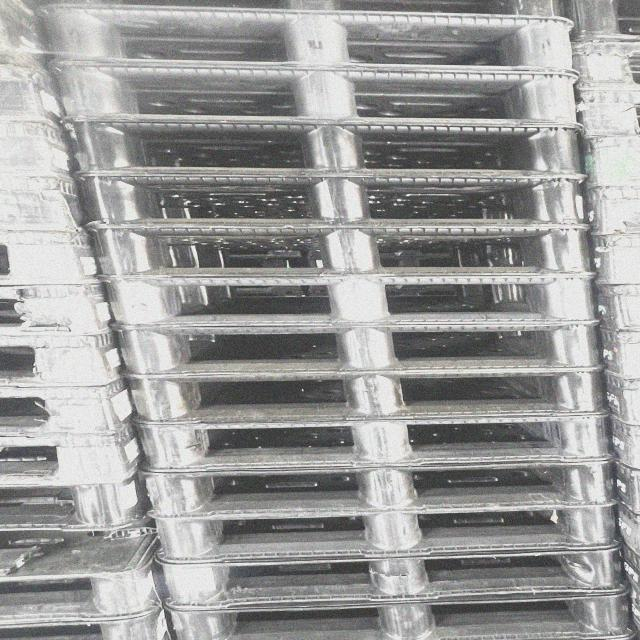igps: (24, 0, 586, 77), (45, 60, 589, 133), (49, 116, 594, 176), (56, 173, 599, 229), (104, 322, 614, 376), (73, 226, 611, 275), (91, 275, 611, 322), (154, 590, 640, 640), (107, 372, 618, 418), (120, 420, 630, 466), (143, 558, 637, 604), (135, 511, 633, 553), (126, 470, 630, 510), (0, 574, 181, 625), (0, 523, 170, 574), (0, 278, 124, 343), (0, 391, 149, 444), (0, 339, 139, 392), (0, 484, 165, 528), (0, 440, 155, 485), (0, 230, 110, 283), (0, 614, 183, 639)
